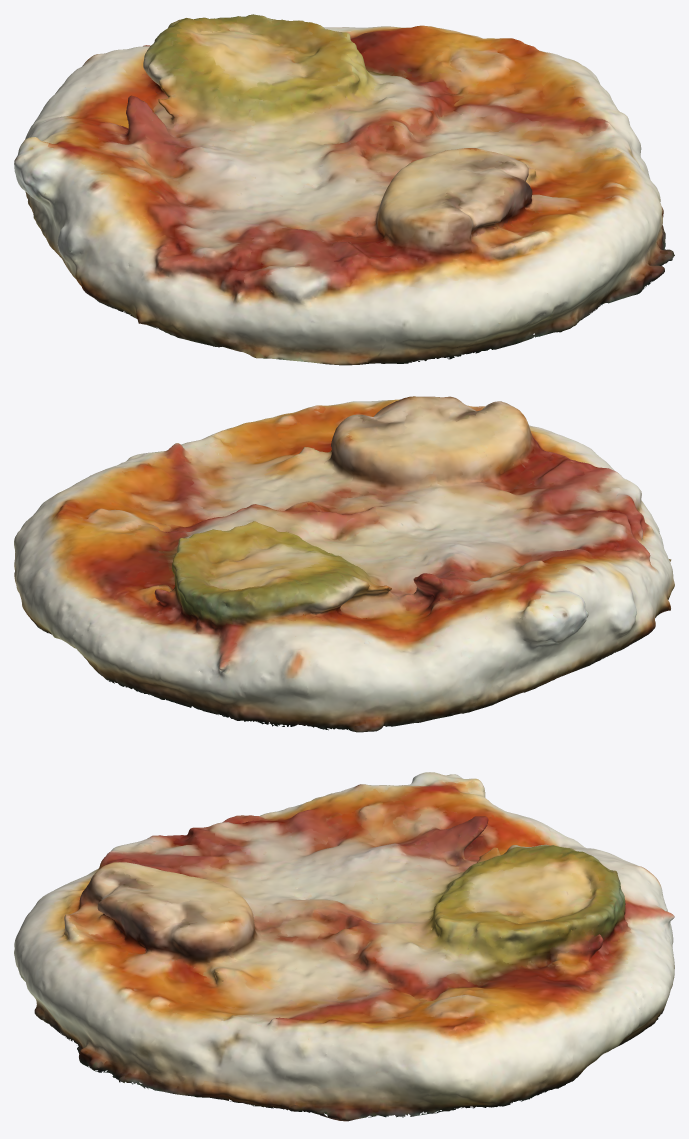
The model's file is meshroom_pizza_m.glb.
3 views of the same model, one above another, from view 1: azimuth 30°, elevation 25°; view 2: azimuth 150°, elevation 25°; view 3: azimuth 270°, elevation 25° (orthographic). The views are drawn at different scales.
Visible parts, largest first — view 1: Scan; view 2: Scan; view 3: Scan.
Boxes of the visible parts, left/top/right/bottom form: Scan: left=14, top=14, right=674, bottom=365; Scan: left=14, top=396, right=674, bottom=732; Scan: left=14, top=772, right=674, bottom=1121.
Bounding box in the file's own units: 0.2864 × 0.0575 × 0.3.
Materials: 2 (1 with a texture image).
